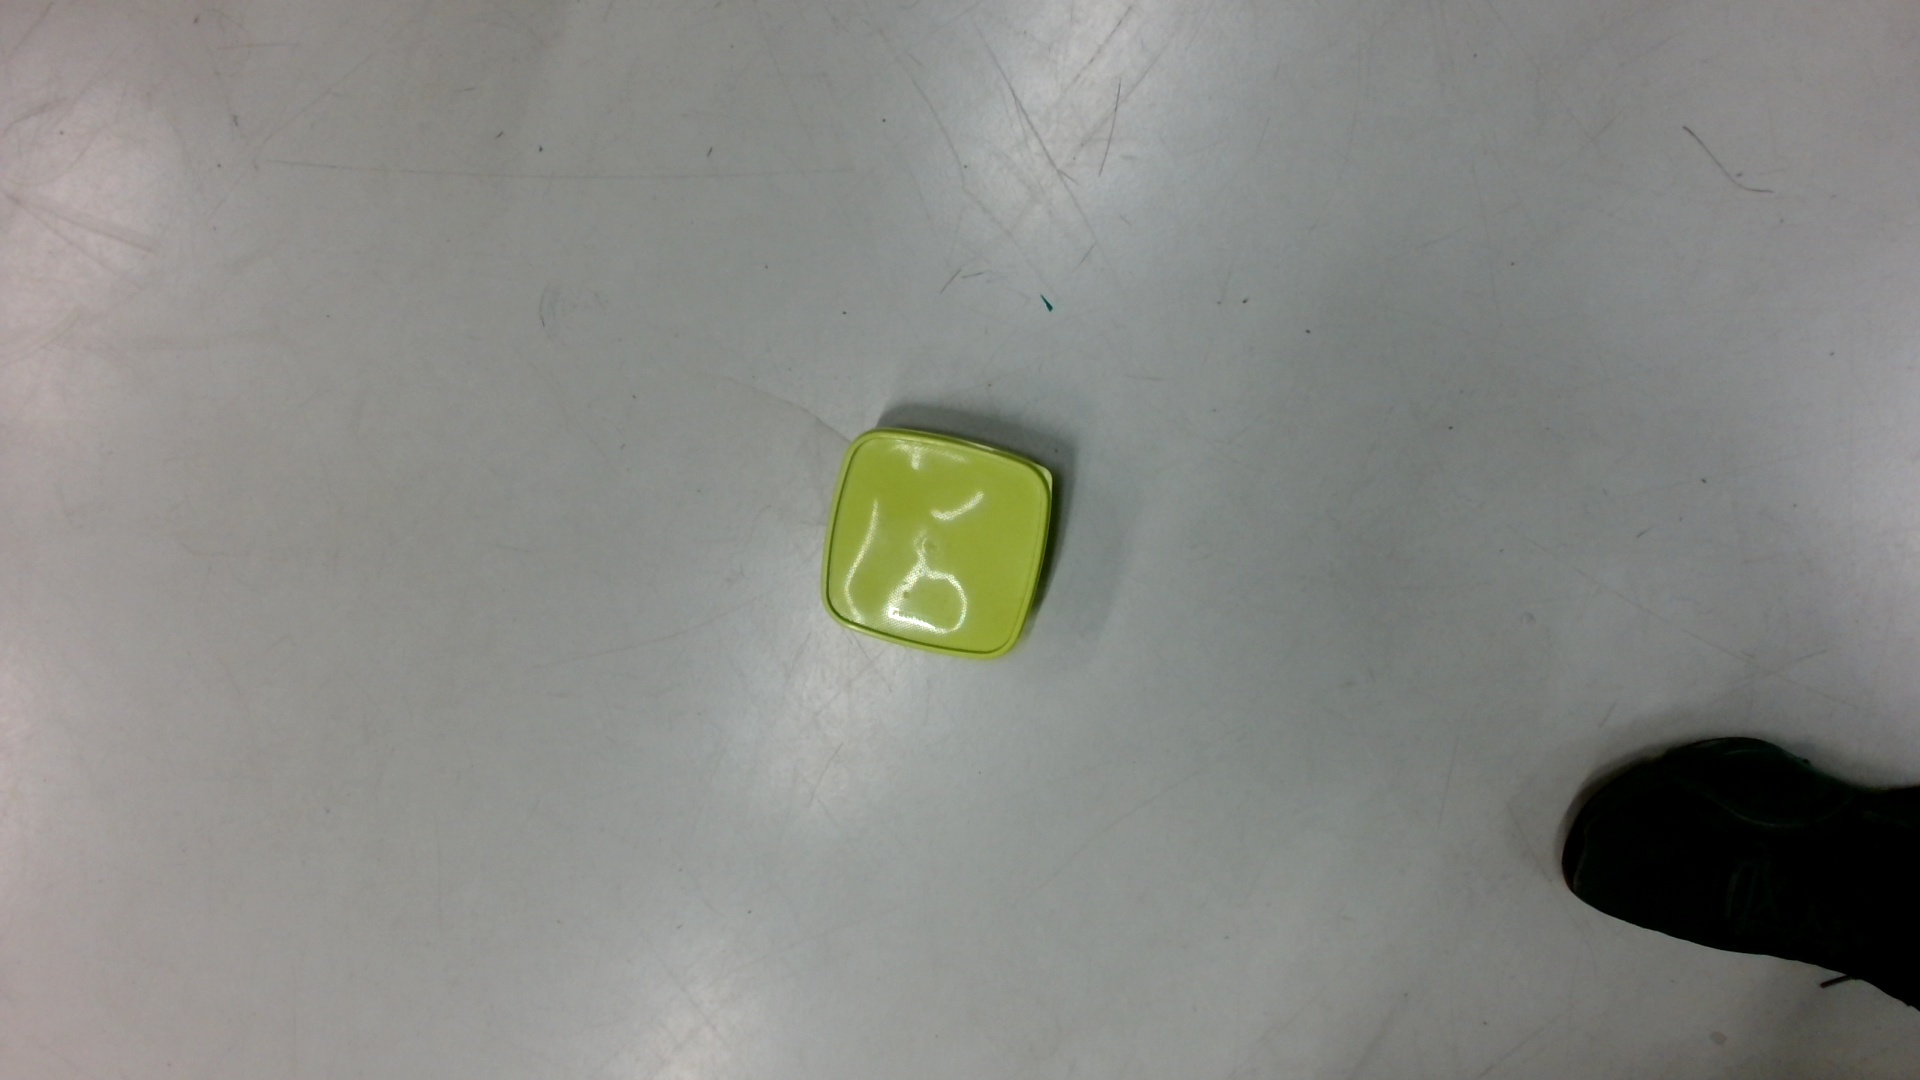Box: (814, 419, 1059, 669)
